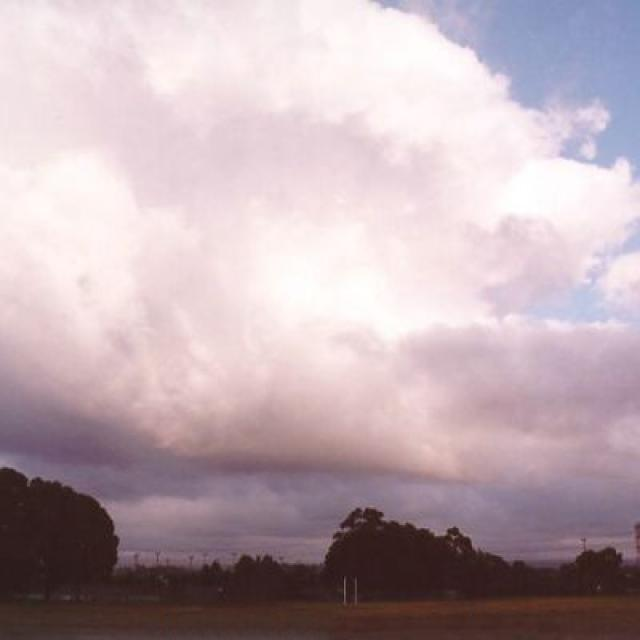Sc: (1, 7, 640, 454)
